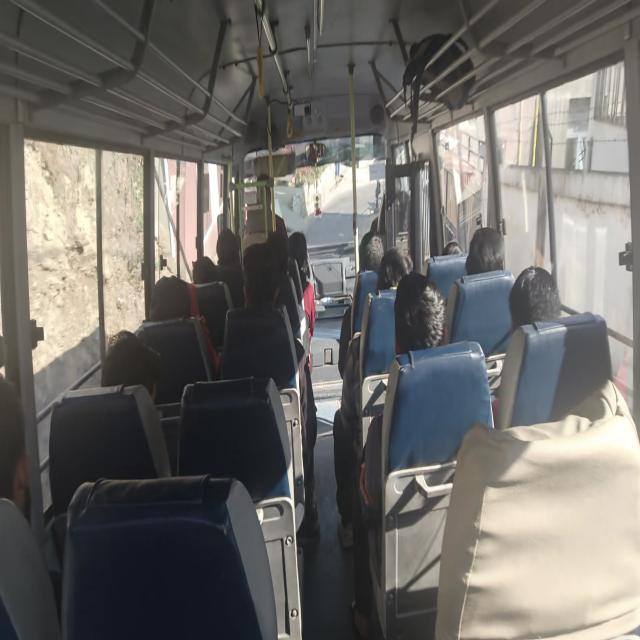person: (0, 376, 56, 554), (392, 270, 443, 369), (88, 322, 142, 412), (507, 258, 560, 318), (238, 245, 276, 310), (468, 218, 506, 270), (186, 247, 223, 299), (383, 243, 416, 286), (152, 268, 183, 312), (360, 223, 394, 259), (213, 224, 235, 266), (265, 228, 287, 264), (434, 228, 457, 260), (286, 227, 304, 267)
